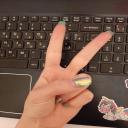PeaceSign: (24, 20, 116, 124)
